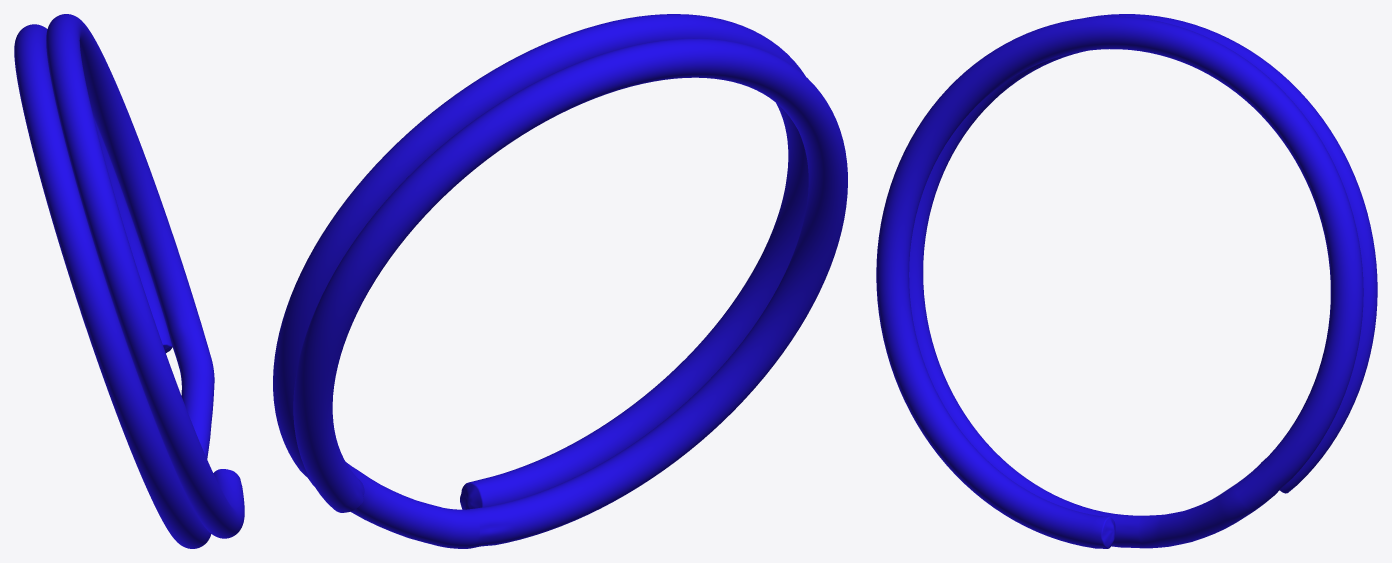
The model's file is ring-_glb.glb.
3 views of the same model, side by side, from view 1: azimuth 30°, elevation 25°; view 2: azimuth 150°, elevation 25°; view 3: azimuth 270°, elevation 25° (orthographic). The views are drawn at different scales.
Visible parts, largest first — view 1: inel_hd; view 2: inel_hd; view 3: inel_hd.
Boxes of the visible parts, x1,y1,x2,y2 form: inel_hd: (14,14,244,548); inel_hd: (273,14,847,548); inel_hd: (876,14,1377,548).
Size of the model in its own units: 0.9335 by 1.48 by 1.43.
